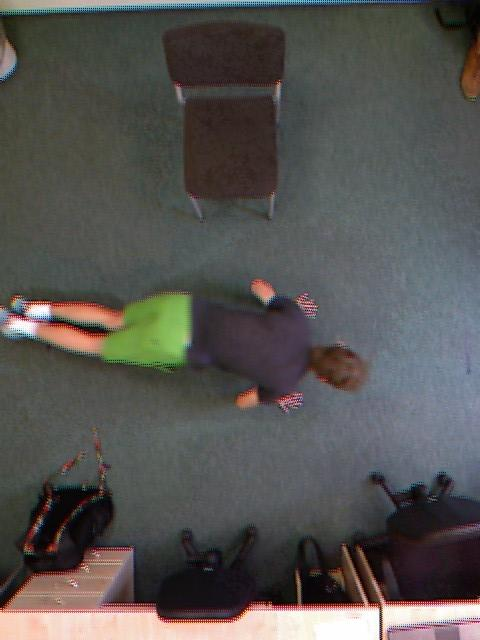fall: (133, 94, 255, 599)
